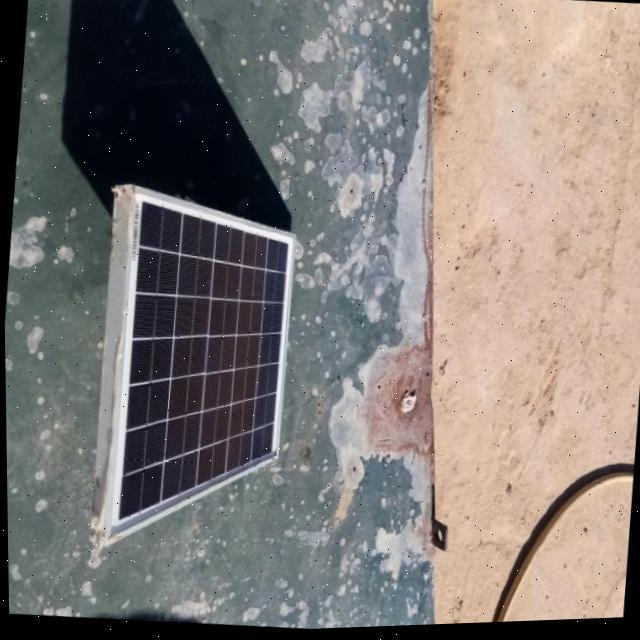Normal Solar Panel: (99, 182, 300, 560)
